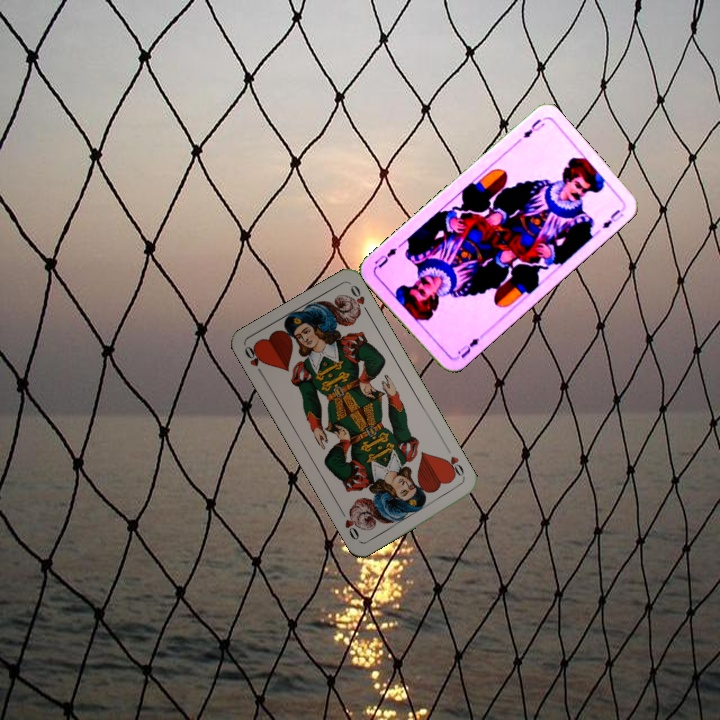EU: (452, 330, 485, 362), (519, 115, 547, 141)
HO: (240, 342, 267, 380), (440, 444, 467, 481)
